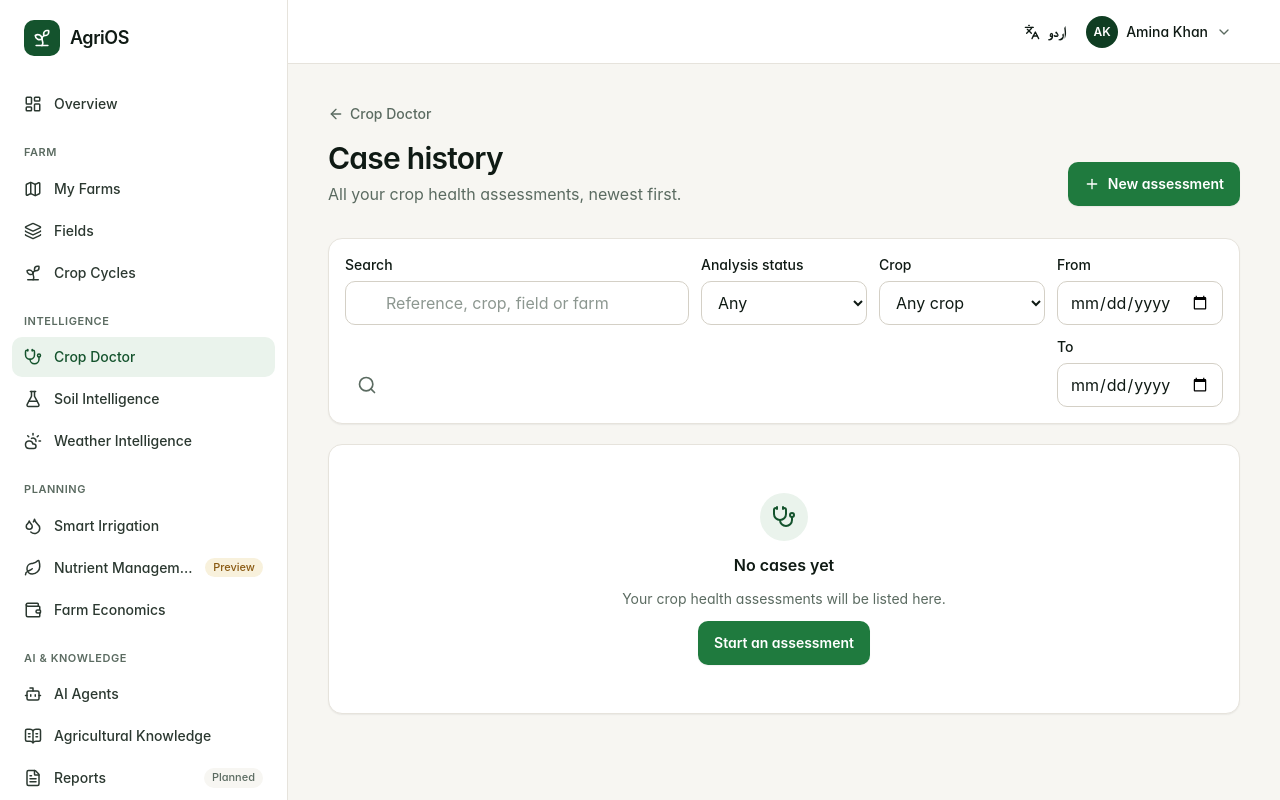
Case history › distinguishes no cases from no matches
Check: the heading "No cases yet" is shown, box x1=734 y1=553 x2=834 y2=577
Type "CD-9" into the search field labelled "Search" at (517, 303), box x1=345 y1=281 x2=689 y2=325
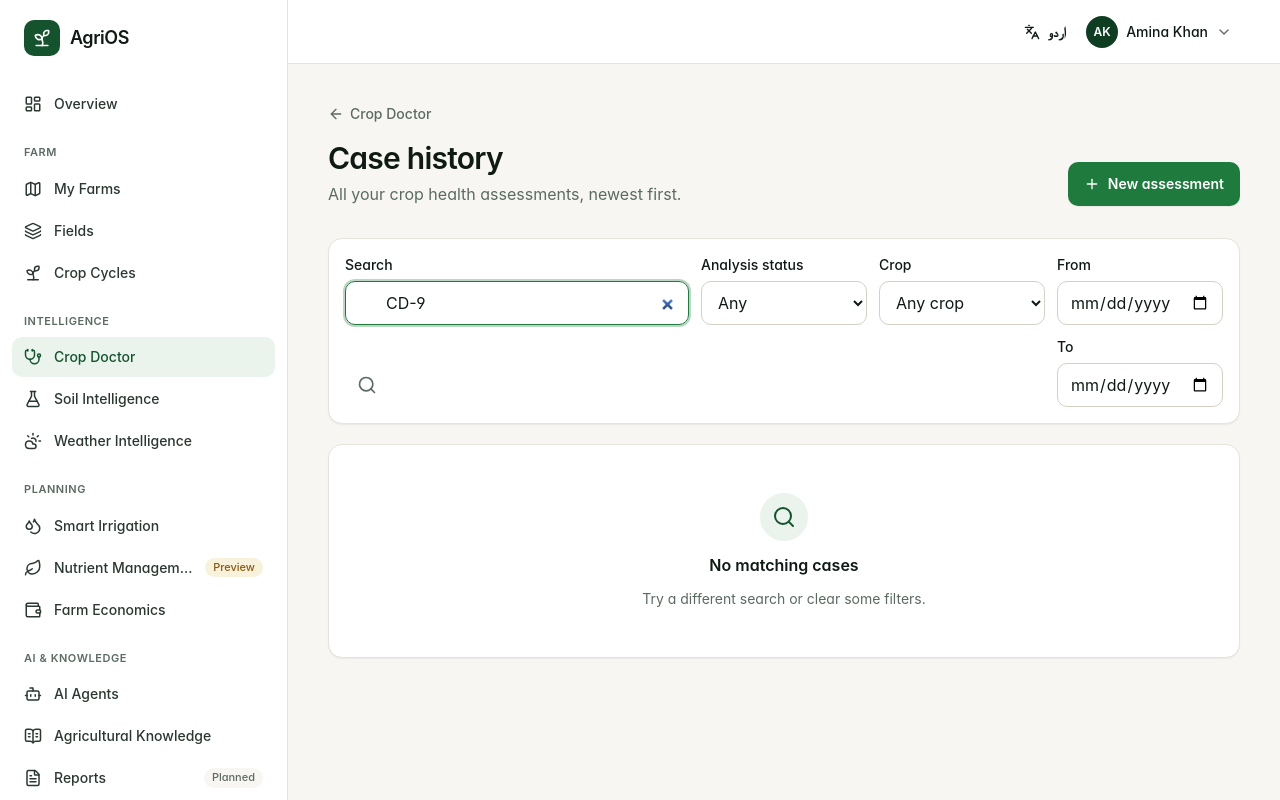
Check: the heading "No matching cases" is shown, box x1=709 y1=553 x2=859 y2=577
